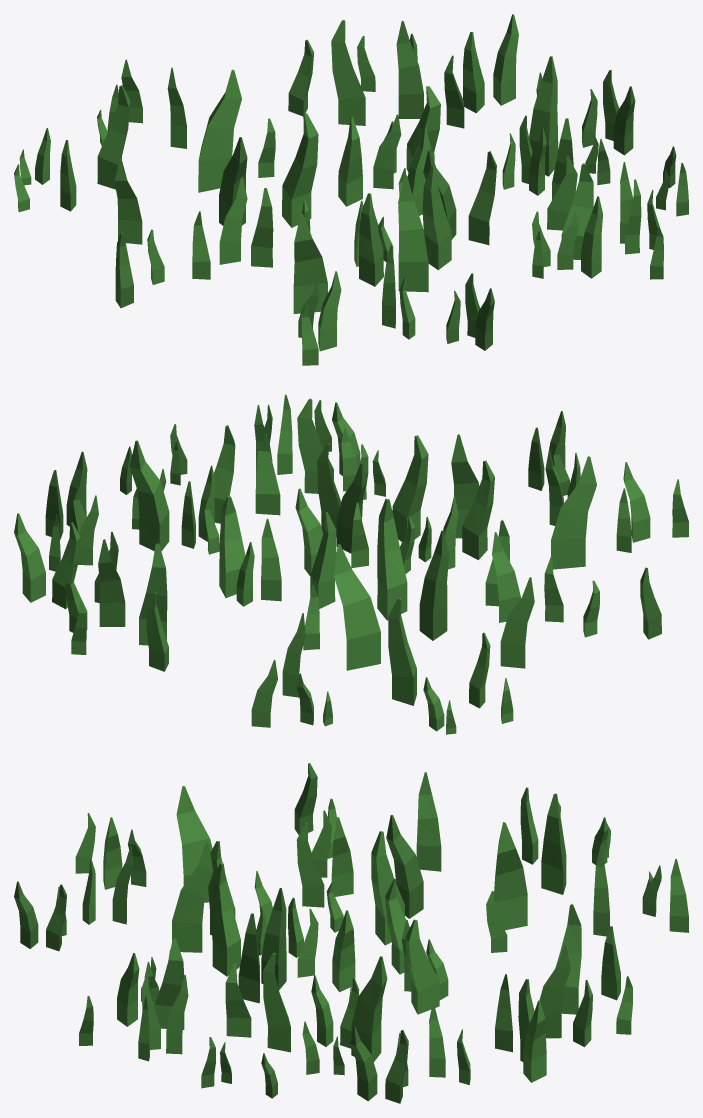
File: Grass 2.fbx
The picture shows the model from 3 angles, top to bottom: view 1: azimuth 30°, elevation 25°; view 2: azimuth 150°, elevation 25°; view 3: azimuth 270°, elevation 25°; orthographic projection.
Visible parts, largest first — view 1: Grass group 2; view 2: Grass group 2; view 3: Grass group 2.
Boxes of the visible parts, x1=… form: Grass group 2: x1=14, y1=14, x2=688, y2=365; Grass group 2: x1=14, y1=394, x2=688, y2=734; Grass group 2: x1=14, y1=763, x2=688, y2=1103.
Size of the model in its own units: 7.69 by 1.47 by 7.98.
